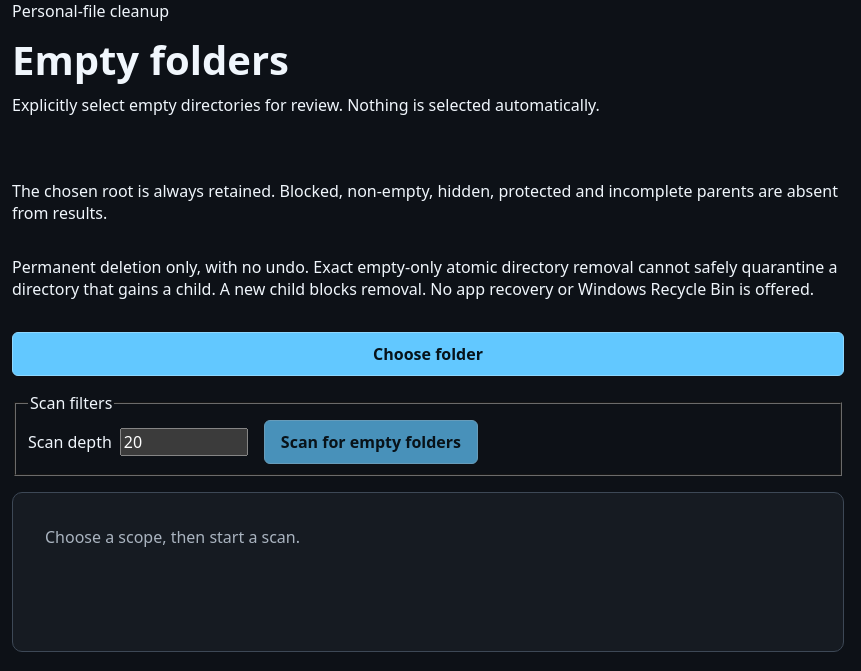
Scenario: invalid depth clears results and cannot start another scan
The image size is (861, 671).
Click the button "Choose folder": (428, 354) x1=12 y1=332 x2=844 y2=376
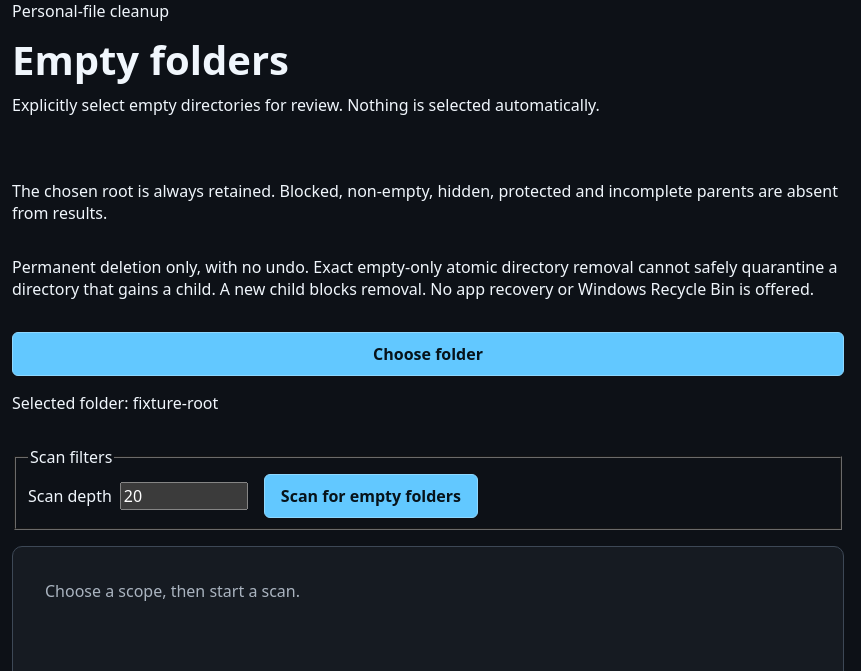
Result: the button "Scan for empty folders" is enabled
Click the button "Scan for empty folders": (371, 496) x1=264 y1=474 x2=478 y2=518
(page scrolled)
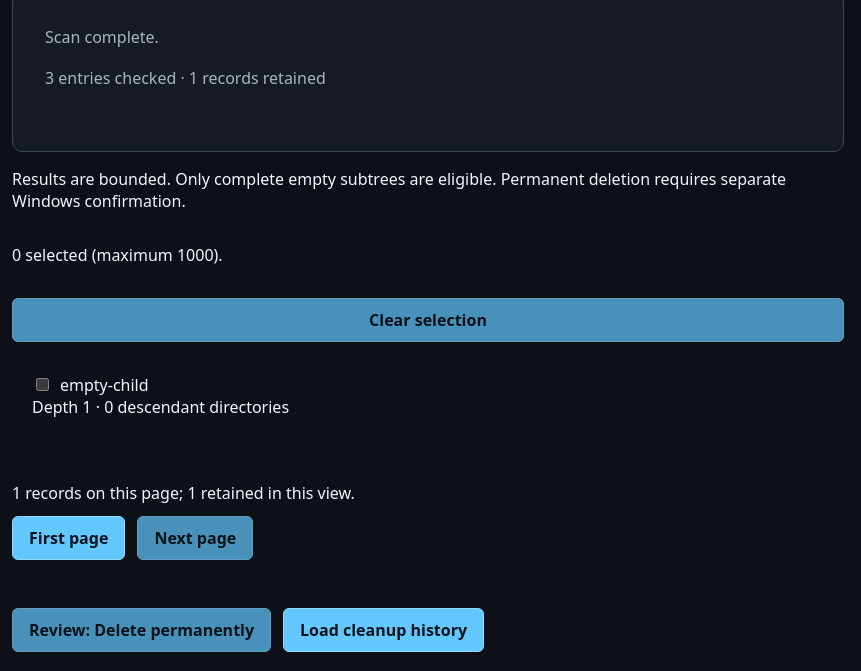
Result: the checkbox labelled "empty-child" is shown
Click the checkbox labelled "empty-child": (42, 385) x1=36 y1=378 x2=49 y2=391
(page scrolled)
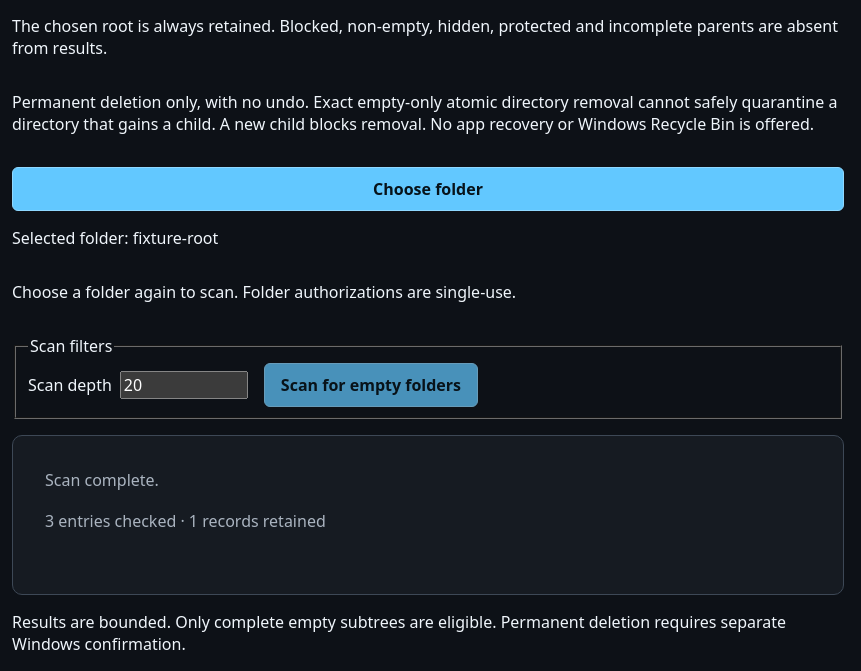
Replace the text in the number field labelled "Scan depth" with "65": (184, 385) x1=120 y1=371 x2=248 y2=399
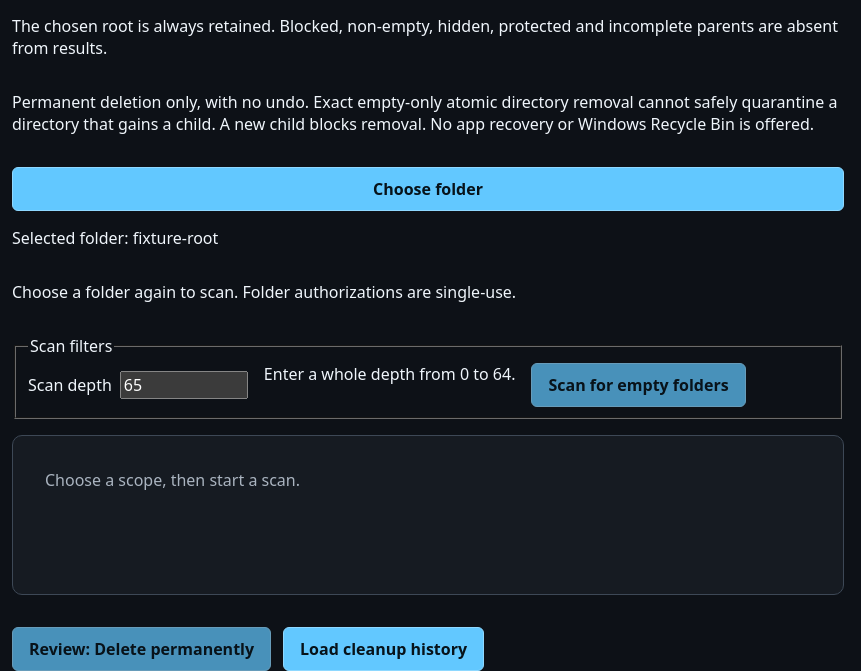
Result: the button "Scan for empty folders" is disabled at x1=532 y1=363 x2=746 y2=407
Result: the message "Enter a whole depth from 0 to 64." is shown at x1=264 y1=363 x2=516 y2=391
